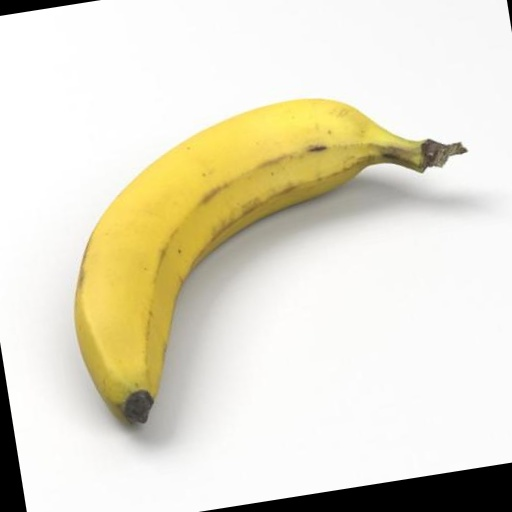fruit: (74, 99, 464, 423)
